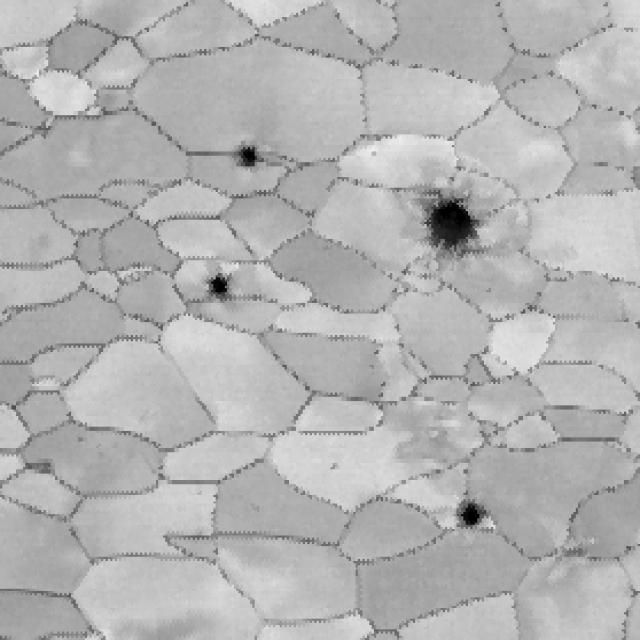good_void: (418, 179, 492, 268), (199, 263, 245, 311), (225, 137, 271, 178), (450, 483, 489, 525), (23, 457, 58, 479), (75, 432, 97, 446), (326, 462, 345, 475), (370, 146, 378, 159)
